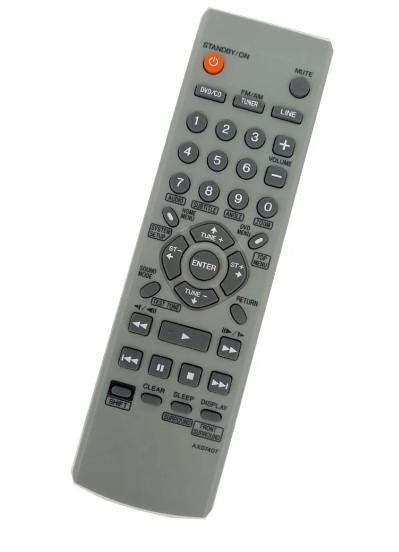Remote control: (71, 8, 334, 522)
